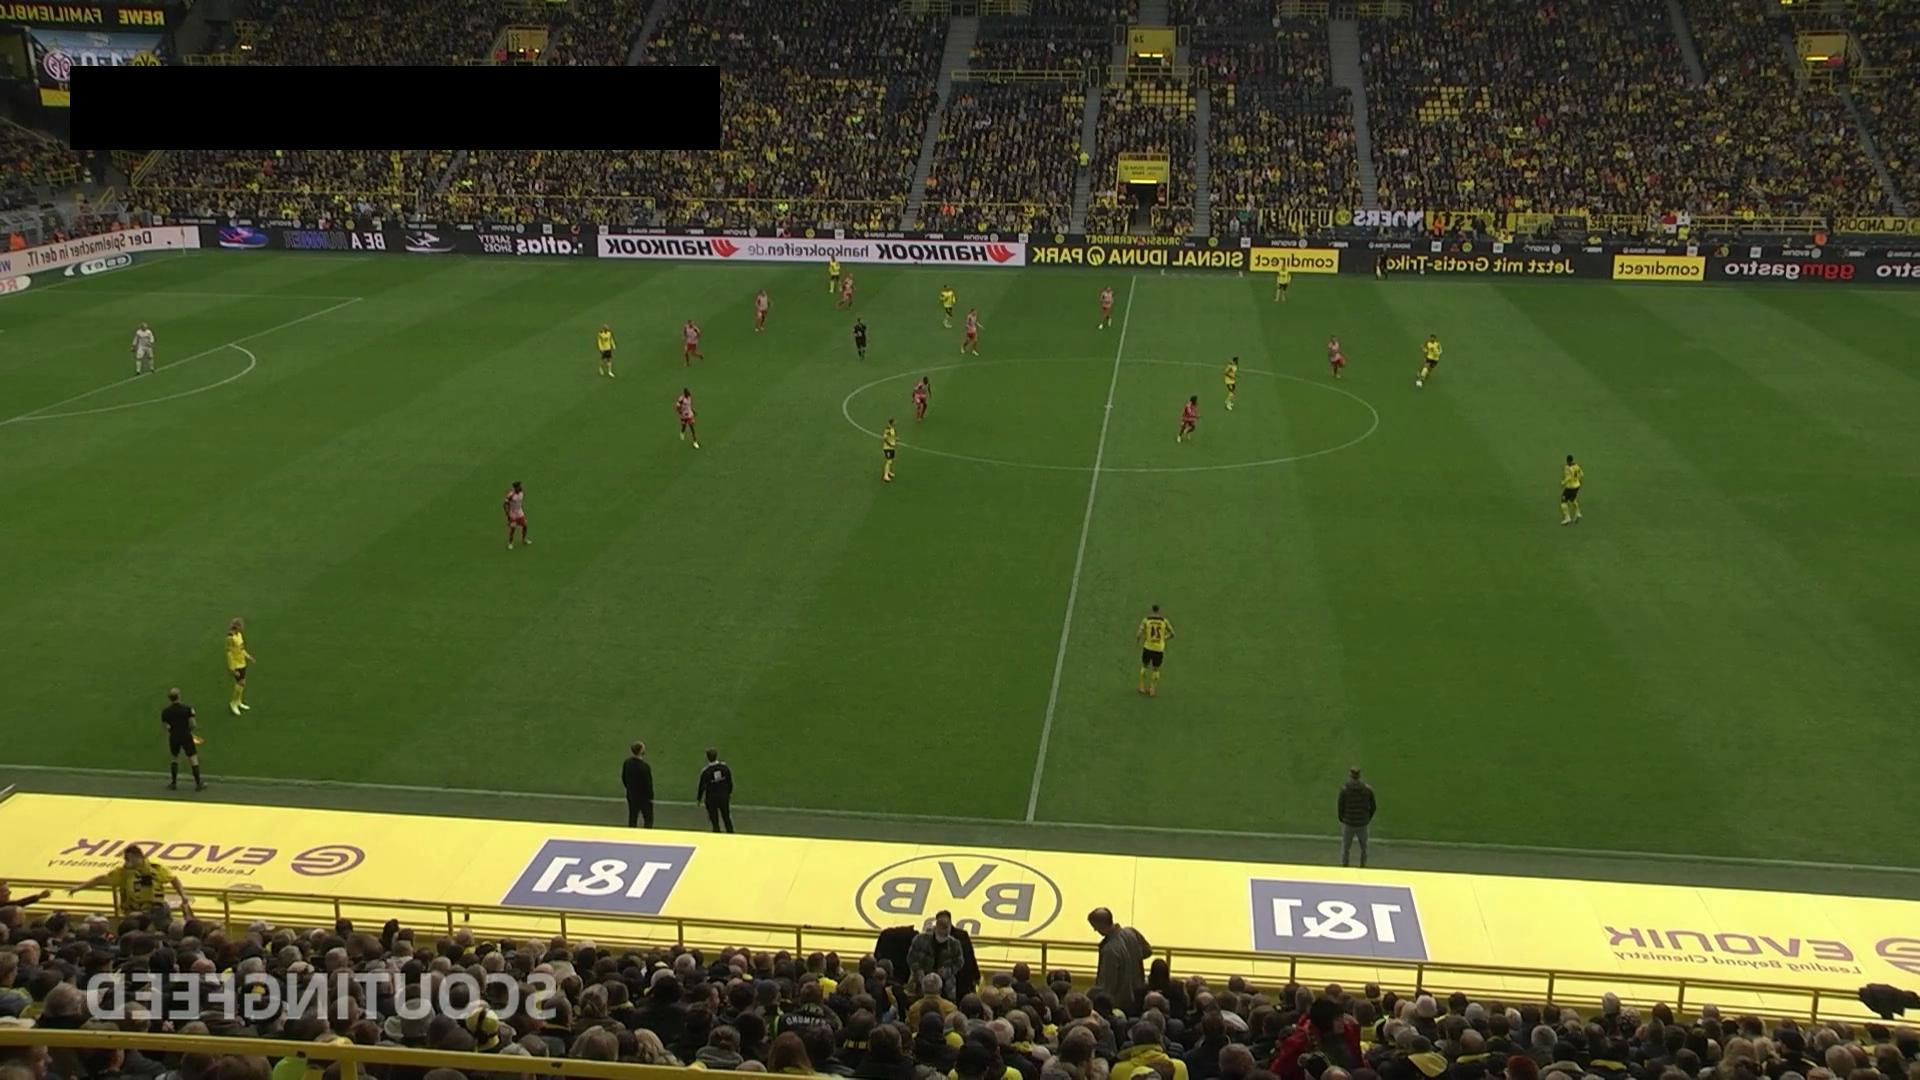ball: (1415, 378, 1423, 388)
goalkeeper: (130, 321, 156, 374)
player: (1134, 603, 1175, 698), (225, 617, 256, 716), (503, 480, 533, 550), (1559, 454, 1584, 526), (676, 387, 701, 449), (1416, 333, 1442, 387), (960, 306, 983, 357), (596, 323, 617, 378), (881, 417, 898, 482), (1177, 394, 1199, 443), (683, 318, 705, 367), (911, 376, 931, 421), (1223, 356, 1239, 411), (1327, 335, 1346, 378), (939, 283, 956, 329), (1098, 284, 1115, 330), (836, 273, 855, 311), (852, 316, 868, 360), (1273, 266, 1292, 303), (754, 289, 770, 332), (827, 256, 841, 294)
referee: (161, 687, 205, 791), (1371, 241, 1388, 282)
